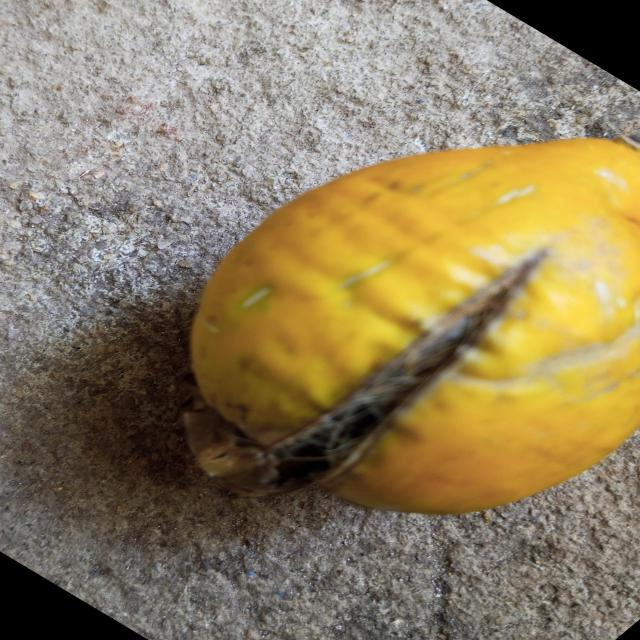damaged: (183, 140, 640, 517)
